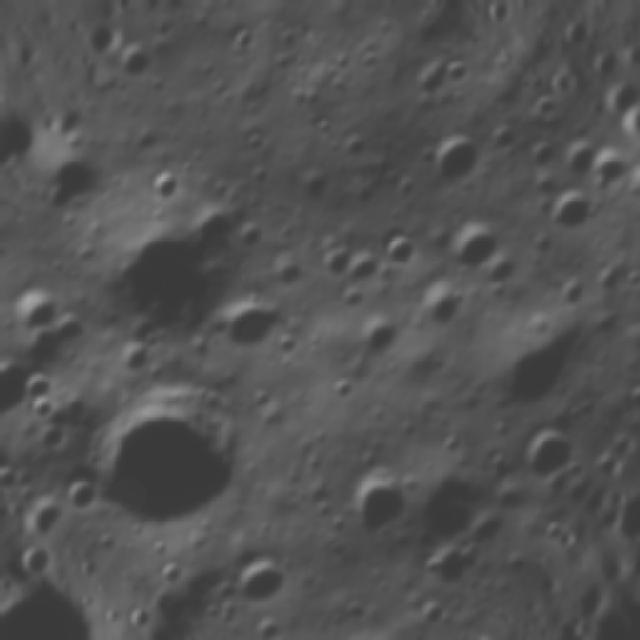crater: (63, 160, 280, 383), (59, 341, 272, 557), (475, 316, 587, 429), (398, 454, 498, 554), (329, 456, 418, 547), (410, 114, 499, 204), (501, 408, 587, 498), (205, 282, 290, 367), (22, 137, 106, 223), (220, 537, 302, 618), (433, 207, 507, 281), (0, 271, 69, 343), (537, 182, 601, 248), (416, 534, 479, 597), (404, 276, 467, 338), (0, 342, 40, 430), (42, 298, 100, 358), (106, 33, 163, 90), (581, 135, 637, 193), (475, 243, 530, 300), (106, 330, 160, 388), (554, 128, 609, 184), (350, 309, 404, 365), (135, 158, 187, 211), (372, 223, 422, 274), (50, 472, 101, 520), (311, 237, 360, 286), (404, 590, 454, 638), (317, 365, 365, 412), (484, 117, 531, 165), (226, 212, 274, 258), (267, 249, 313, 297), (289, 160, 333, 206), (12, 362, 56, 407), (522, 85, 567, 128), (609, 152, 640, 214), (0, 430, 29, 492), (335, 123, 376, 166), (267, 324, 308, 365), (522, 134, 563, 175), (343, 248, 382, 287), (242, 377, 280, 415), (144, 10, 182, 48), (332, 278, 370, 316), (153, 553, 190, 592), (223, 19, 260, 56), (23, 388, 59, 426), (31, 492, 67, 526), (584, 444, 616, 481), (436, 54, 470, 88), (318, 629, 417, 640), (620, 375, 640, 420), (0, 460, 23, 494), (461, 624, 492, 640)
